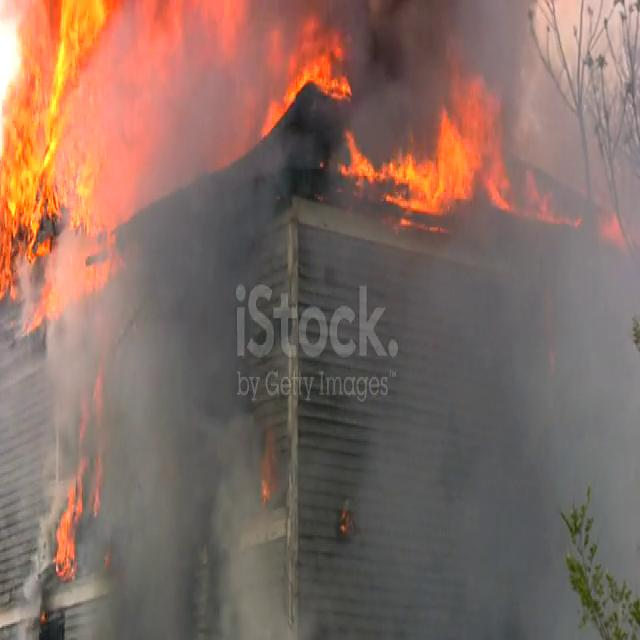fire: (0, 0, 127, 313), (355, 75, 549, 226), (259, 0, 359, 138)
smoke: (478, 242, 632, 580), (102, 322, 214, 614)
